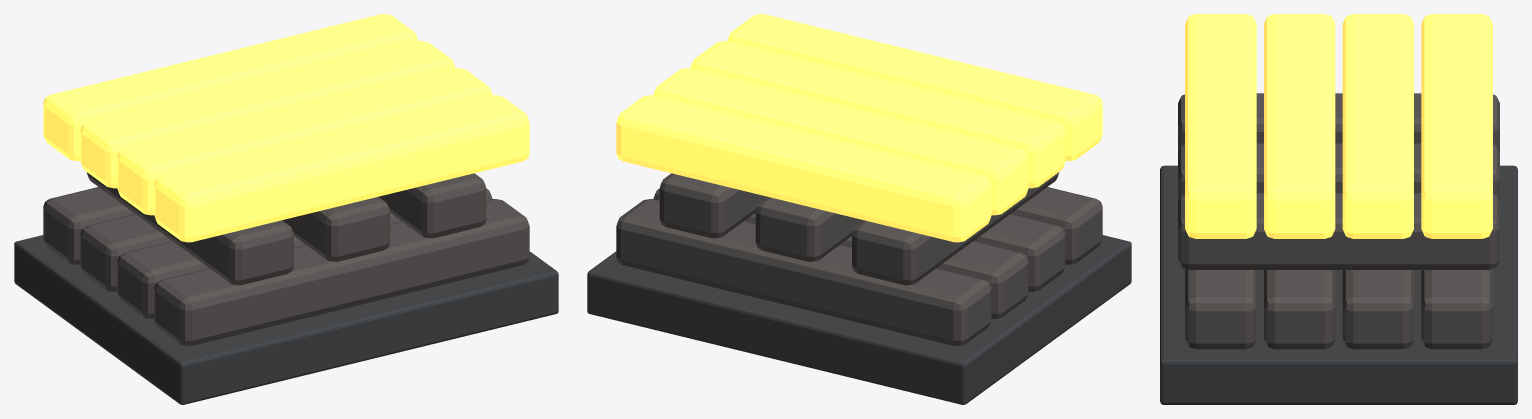
The model's file is ingot_stack.glb.
3 renders of one model, left to right at view 1: azimuth 30°, elevation 25°; view 2: azimuth 150°, elevation 25°; view 3: azimuth 270°, elevation 25°, orthographic. The views are drawn at different scales.
Visible parts, largest first — view 1: ingot_stack; view 2: ingot_stack; view 3: ingot_stack.
Part boxes in pixels (x1,y1,x2,y2): ingot_stack: [14, 14, 558, 404]; ingot_stack: [587, 14, 1131, 404]; ingot_stack: [1160, 14, 1517, 404].
Bounding box in the file's own units: 1.3 × 0.64 × 1.
